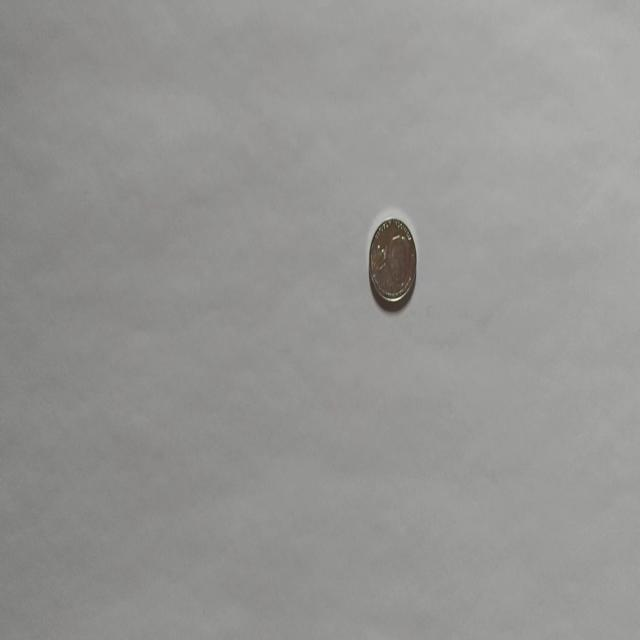seratus rupiah: (367, 215, 417, 309)
